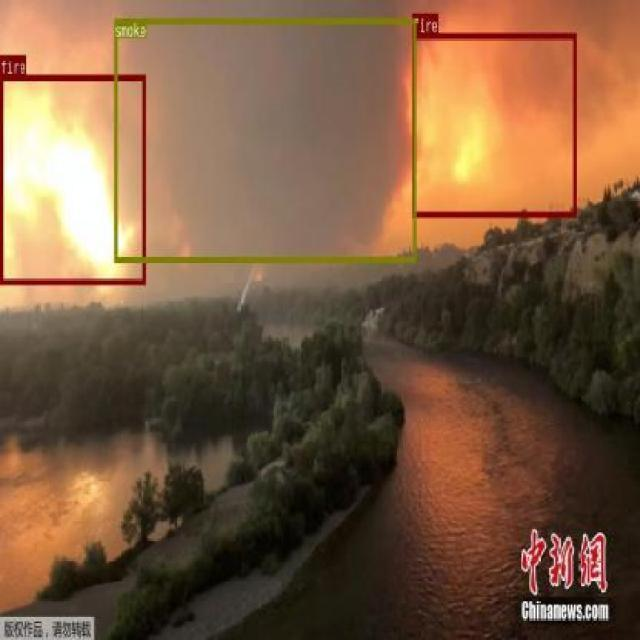Fire: (412, 32, 576, 216), (0, 75, 145, 282)
Smoke: (114, 18, 416, 262)
